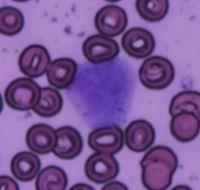M: (66, 57, 138, 128)
